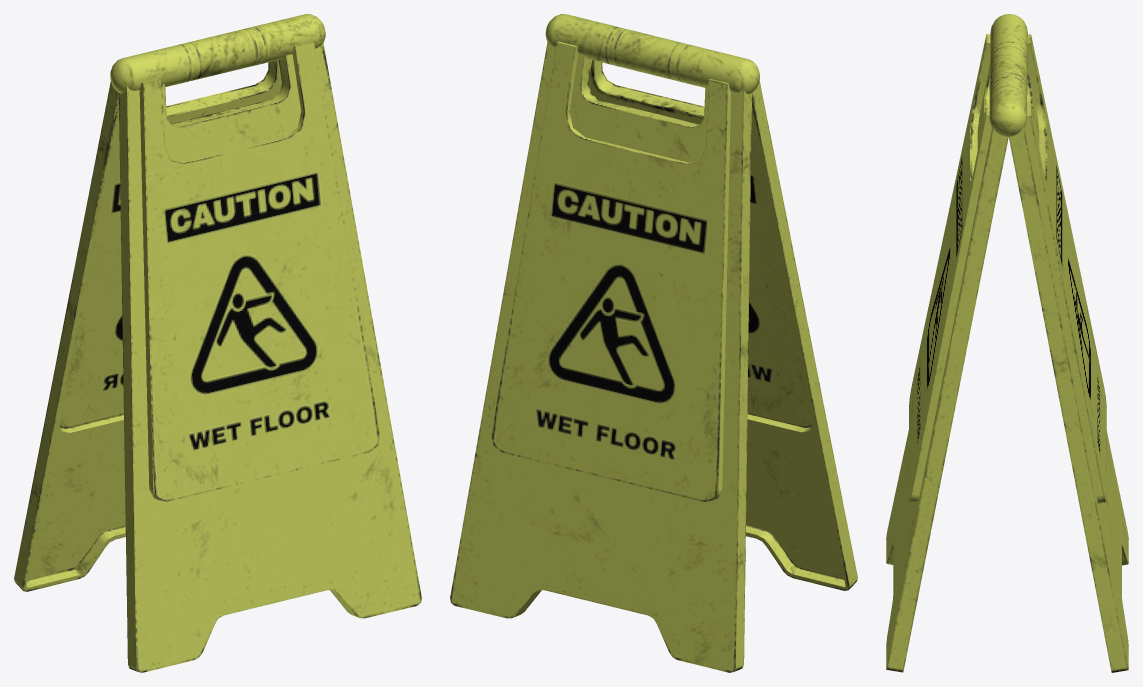
File: Signal.obj
3 views of the same model, side by side, from view 1: azimuth 30°, elevation 25°; view 2: azimuth 150°, elevation 25°; view 3: azimuth 270°, elevation 25° (orthographic).
Visible parts, largest first — view 1: obj1; view 2: obj1; view 3: obj1.
Part boxes in pixels (x1,y1,x2,y2): obj1: (14, 14, 421, 672); obj1: (450, 14, 857, 672); obj1: (886, 14, 1128, 672).
Size of the model in its own units: 101 by 189 by 75.63.
1 material, 1 textured.
